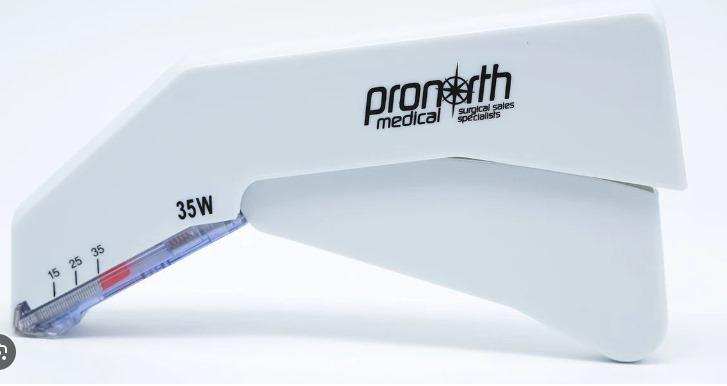Skin Stapler: (13, 8, 682, 372)
